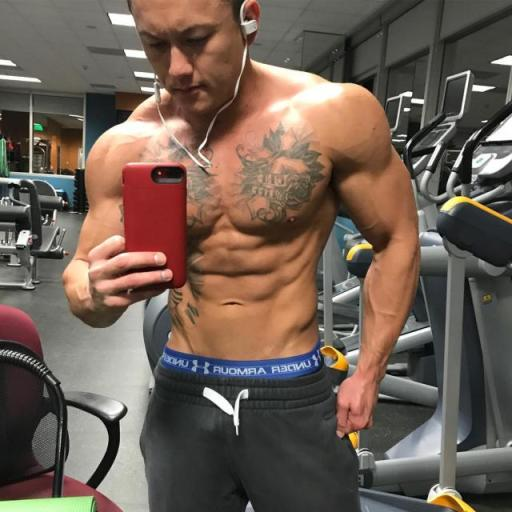Under Armour: (190, 357, 211, 376)
